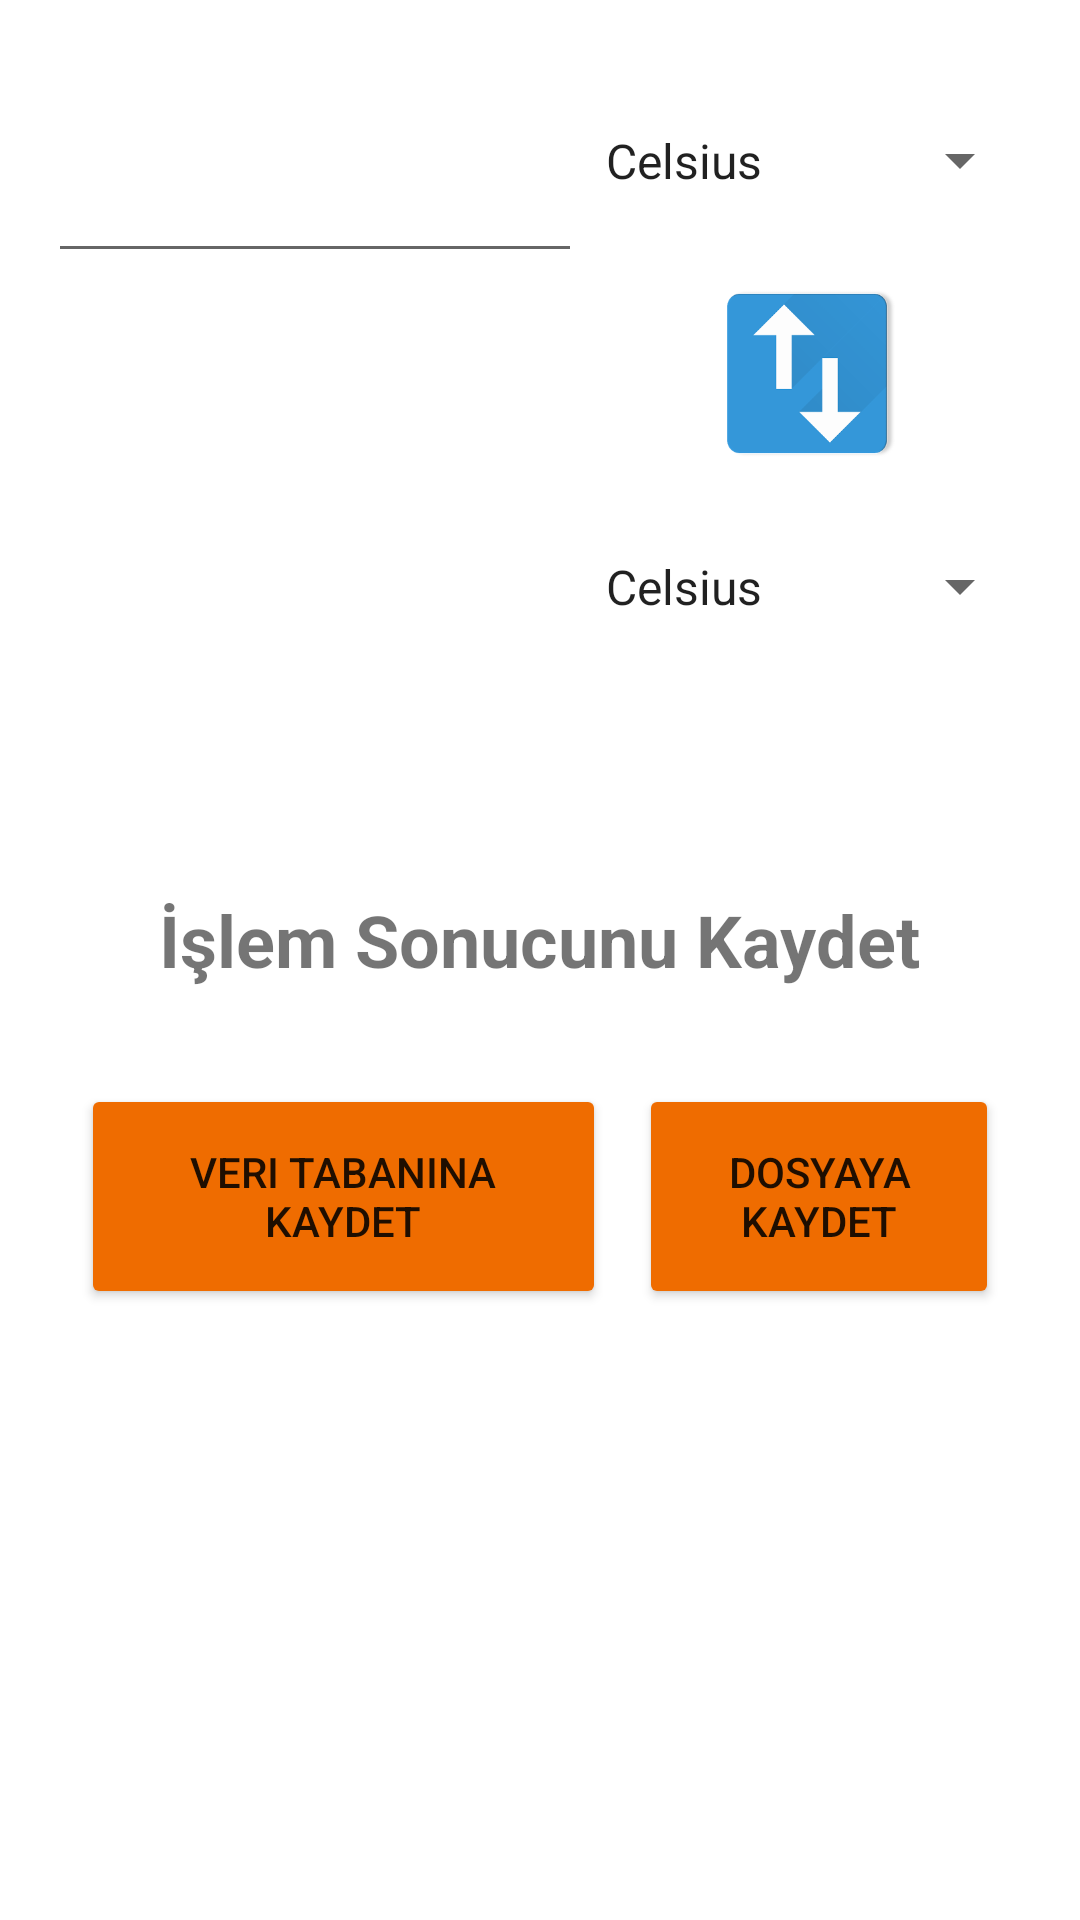

Point at icon controls on the screen. Image size 1080×1920, points as [x,y].
converter: [809,373]
